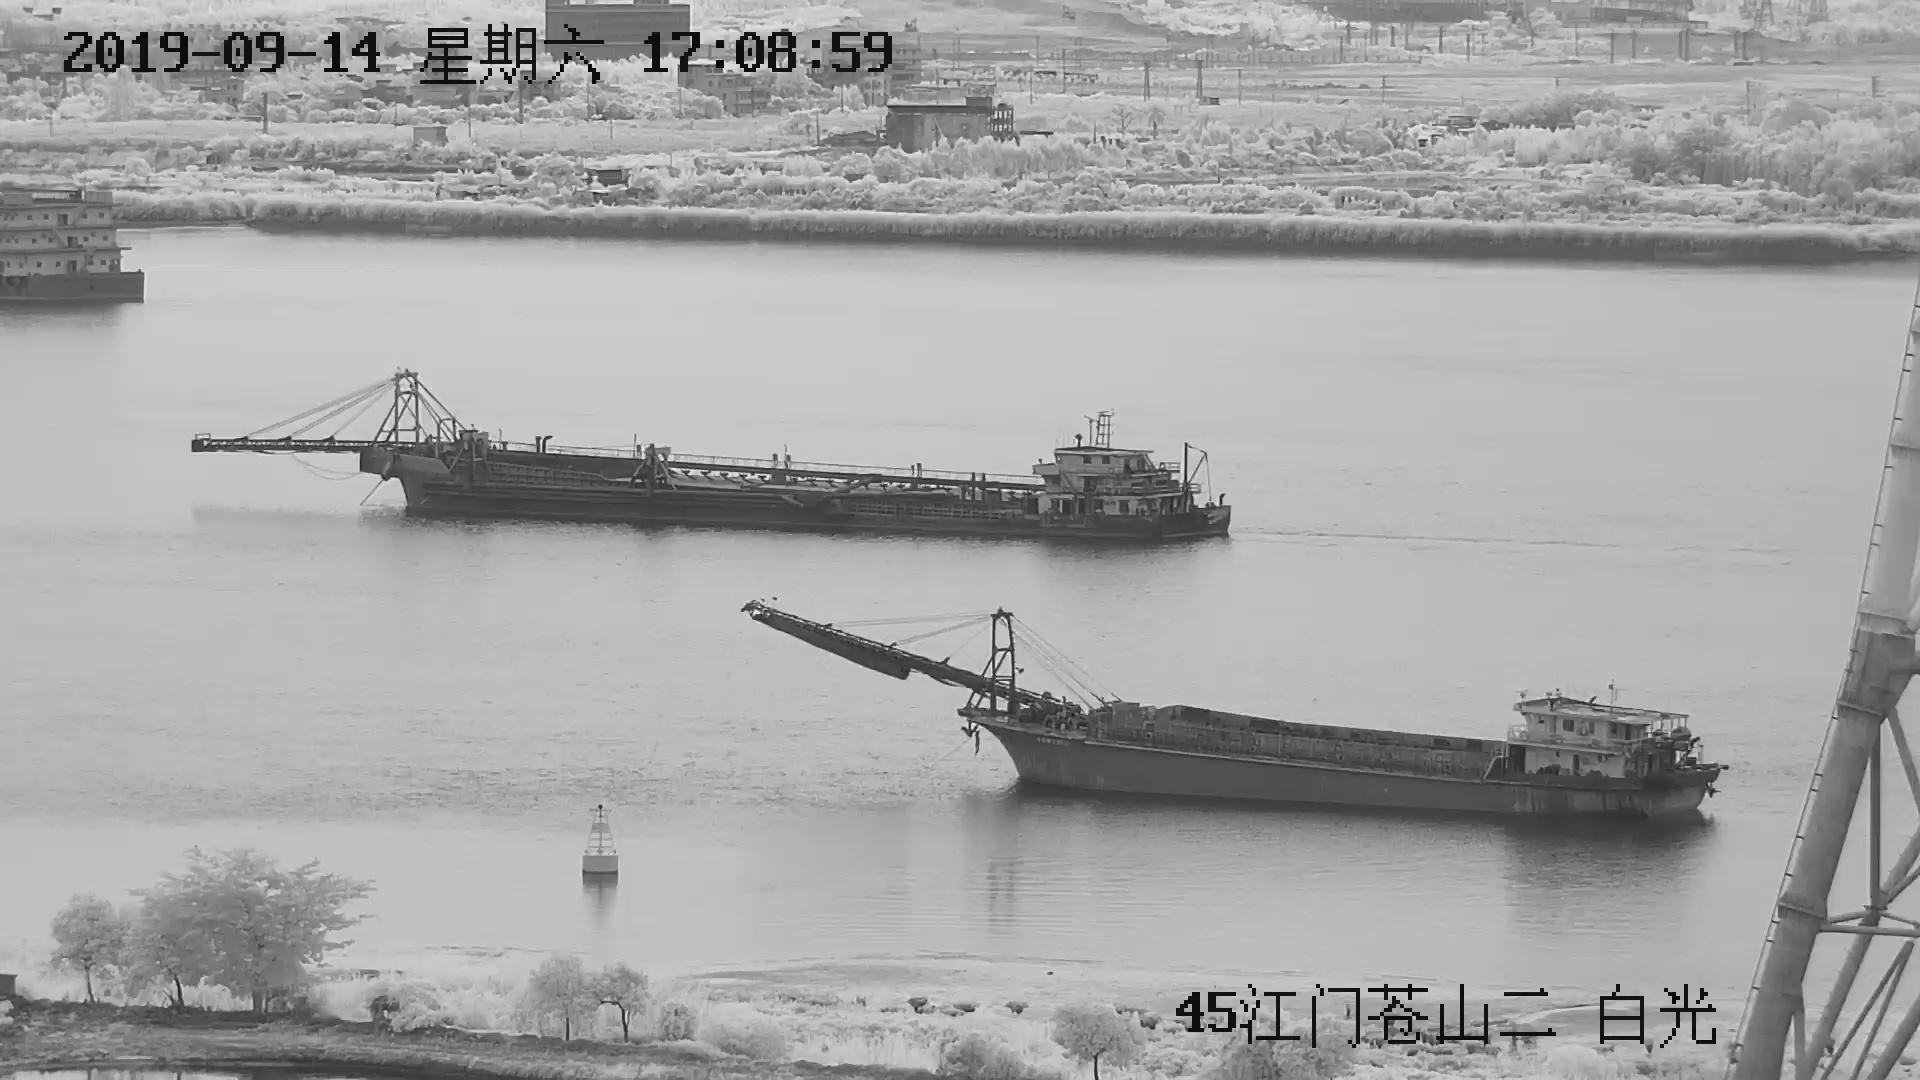ship: (760, 589, 1714, 823), (193, 376, 1234, 538)
